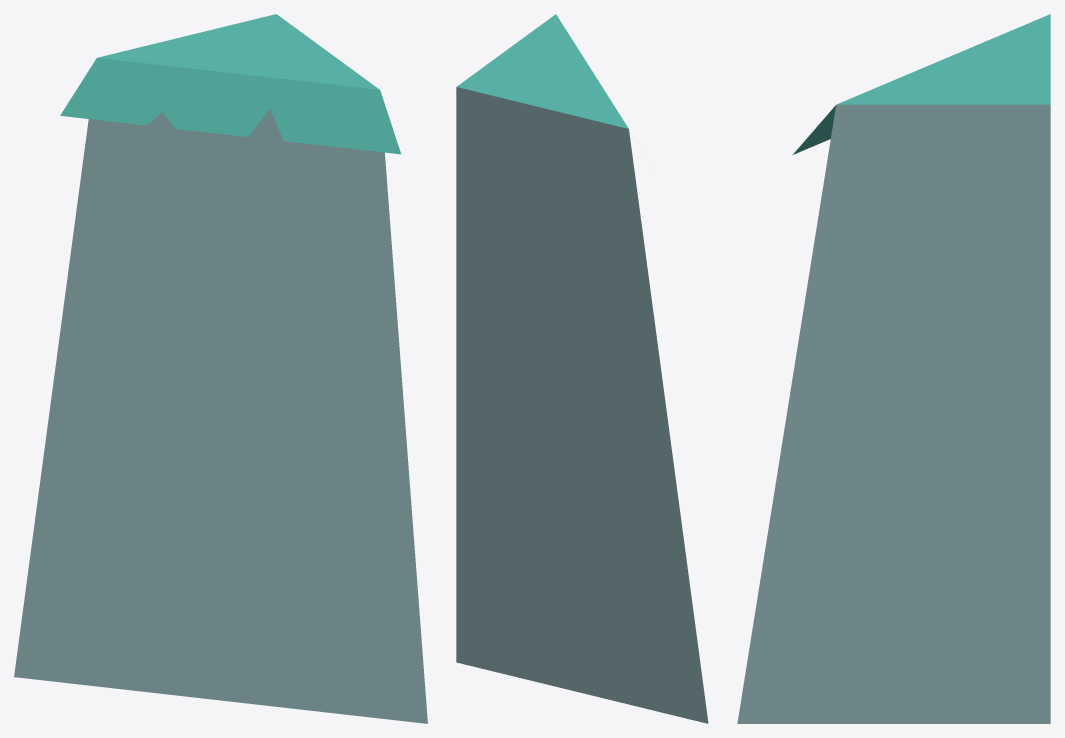
The model's file is cliffGrey_cornerTop.fbx.
3 renders of one model, left to right at view 1: azimuth 30°, elevation 25°; view 2: azimuth 150°, elevation 25°; view 3: azimuth 270°, elevation 25°, orthographic. The views are drawn at different scales.
Visible parts, largest first — view 1: cliffGrey_cornerTop; view 2: cliffGrey_cornerTop; view 3: cliffGrey_cornerTop.
Part boxes in pixels (x1,y1,x2,y2): cliffGrey_cornerTop: (14, 14, 427, 723); cliffGrey_cornerTop: (456, 14, 708, 723); cliffGrey_cornerTop: (737, 14, 1050, 723).
Size of the model in its own units: 4.58 by 10 by 4.58.
